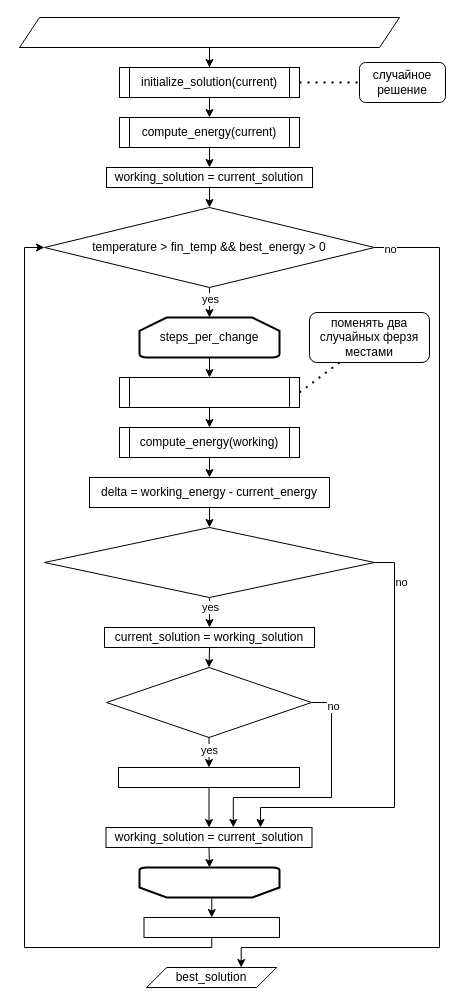
Some shapes in this 465 by 1005 pixel diagram are drawn without their labels. Here are the shapes that lost their labels. From the top down, the centre of each, then its label:
At [209,32]: "init_temp, fin_temp, steps_per_change, alpha, queens_count".
At [209,392]: "tweak_solution(working)".
At [209,562]: "delta <= 0 || exp(-delta / temperature) > rand()".
At [209,702]: "current_energy < best_energy".
At [209,777]: "best_solution = current_solution".
At [211,927]: "temperature *= alpha".
